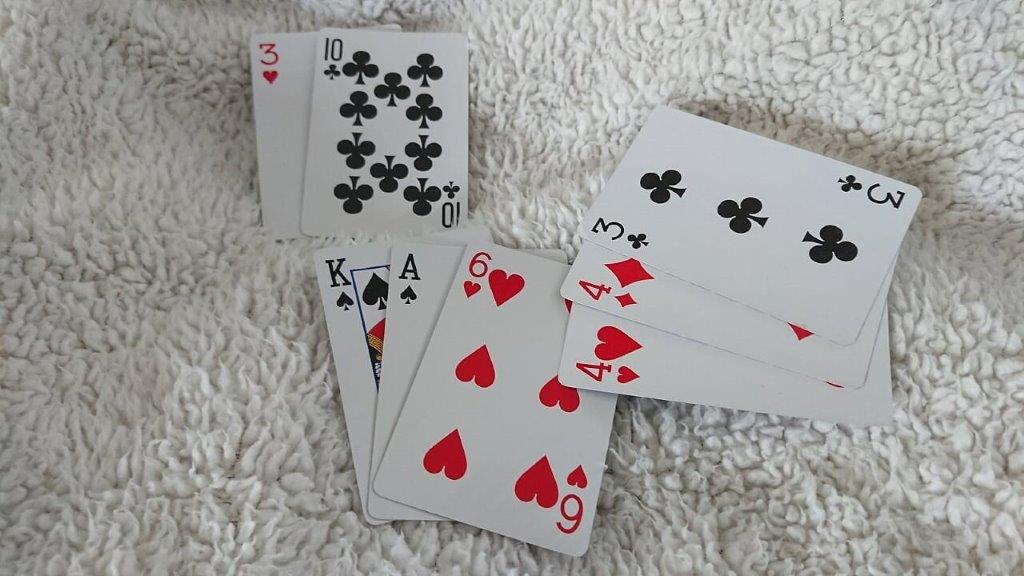10C: (319, 29, 352, 84)
3H: (254, 37, 291, 94)
6H: (457, 247, 500, 306)
AS: (395, 245, 434, 308)
KS: (319, 251, 365, 322)
